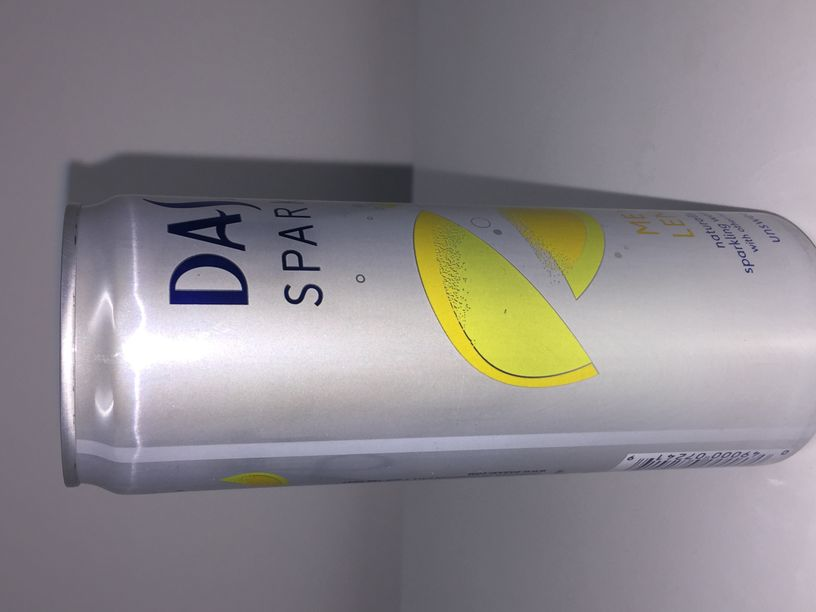lemon: (60, 193, 816, 498)
